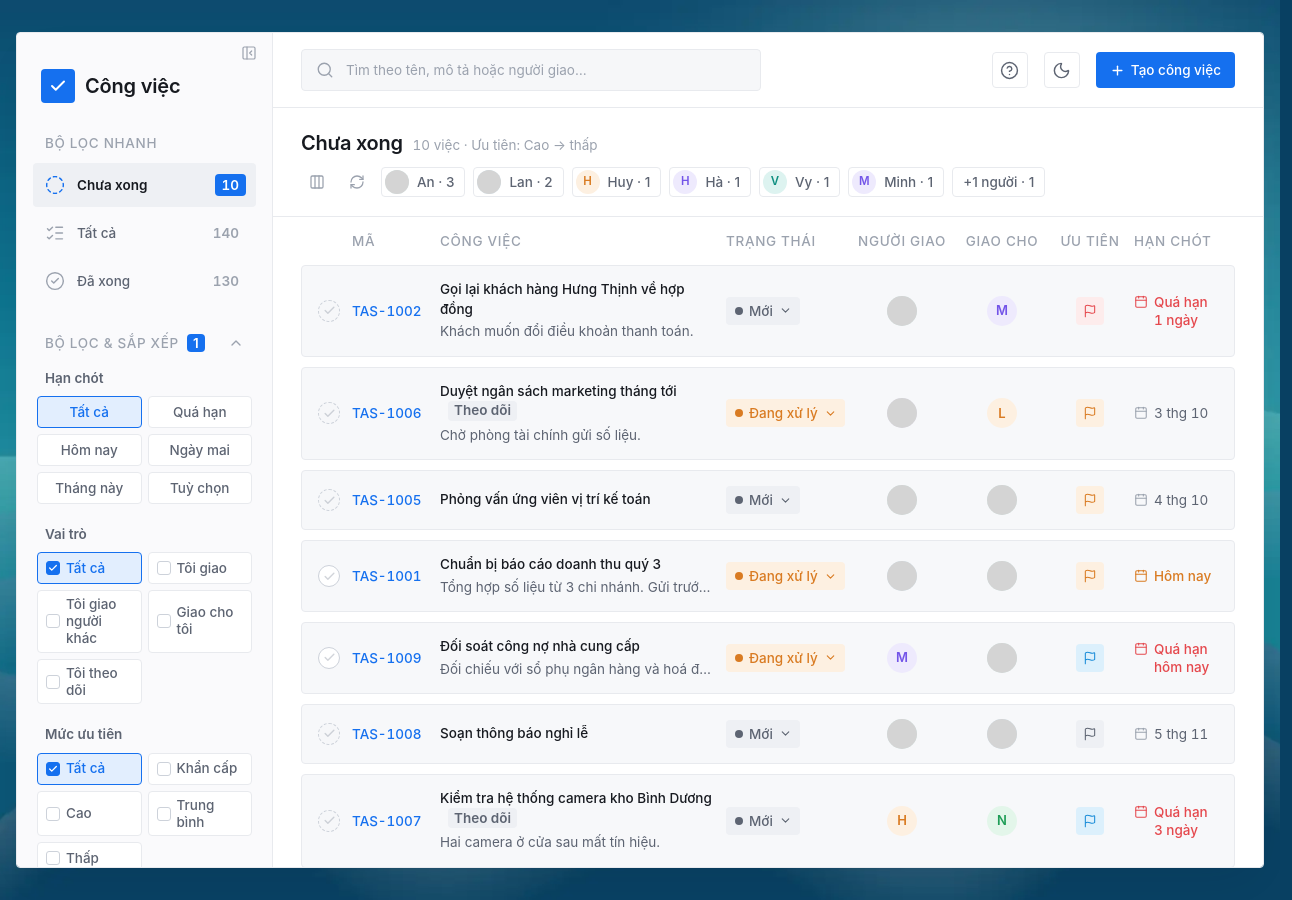
Test: status workflow (CONTRACT §4 "Quy trình trạng thái") › locks the checkbox where the workflow has no way to "Đã xử lý" / back, and offers no Hoàn tác
Check: the checkbox with test id "task-checkbox" is disabled, box [318, 489, 340, 511]
Click the checkbox with test id "task-checkbox" at [329, 576], box [318, 565, 340, 587]
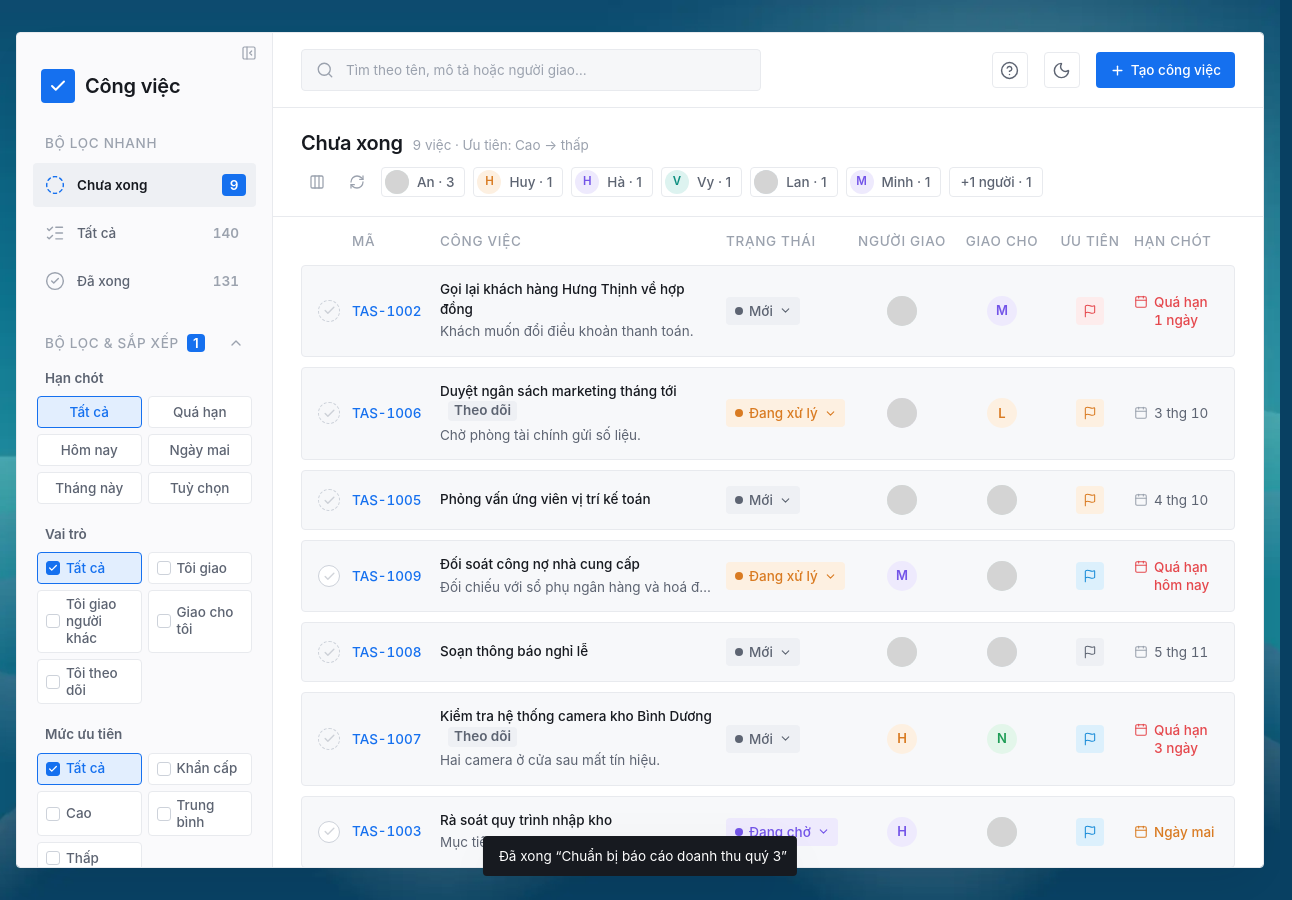
Check: the message with test id "toast" reads "Đã xong “Chuẩn bị báo cáo doanh thu quý 3”", box [499, 848, 787, 864]
Click the button with test id "quick-all" at [144, 233], box [33, 211, 256, 255]
(page scrolled)
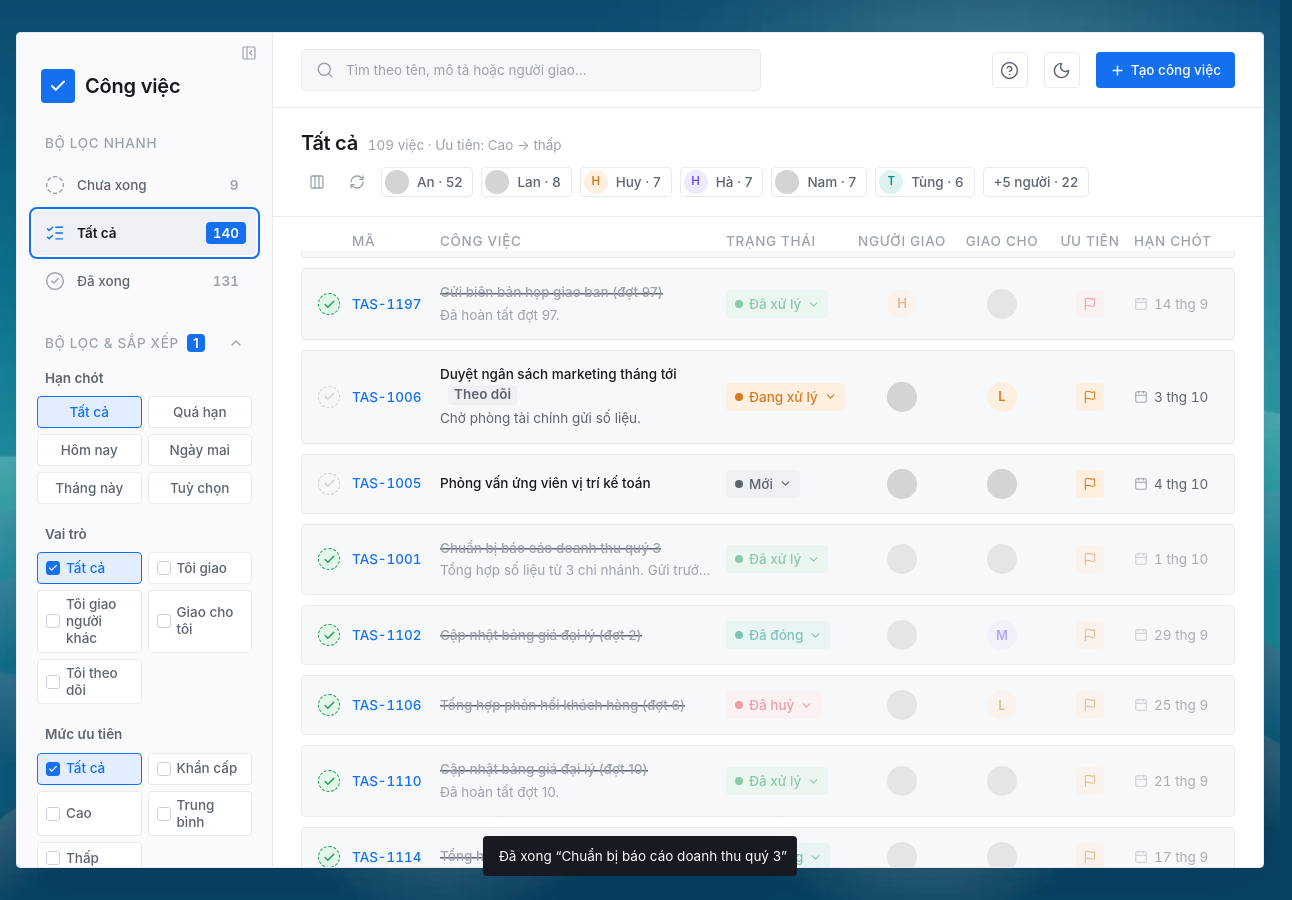
Check: the checkbox with test id "task-checkbox" is disabled, box [318, 548, 340, 570]
